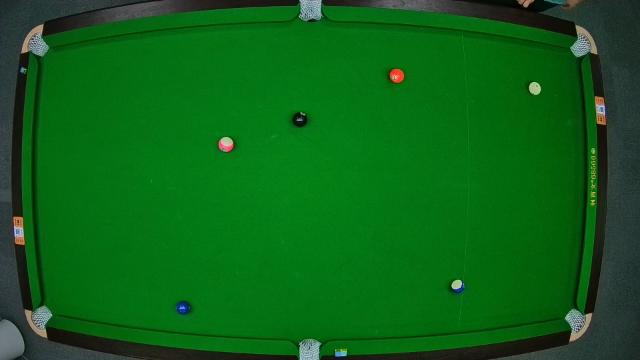bag1: (28, 34, 48, 56)
bag2: (300, 1, 324, 22)
bag3: (573, 34, 591, 56)
bag4: (30, 307, 51, 327)
bag5: (298, 338, 320, 360)
bag6: (565, 311, 585, 333)
ball0: (528, 82, 542, 96)
ball10: (452, 279, 466, 295)
ball12: (218, 136, 235, 154)
ball2: (176, 300, 192, 316)
ball5: (390, 69, 406, 85)
ball8: (292, 110, 308, 127)
